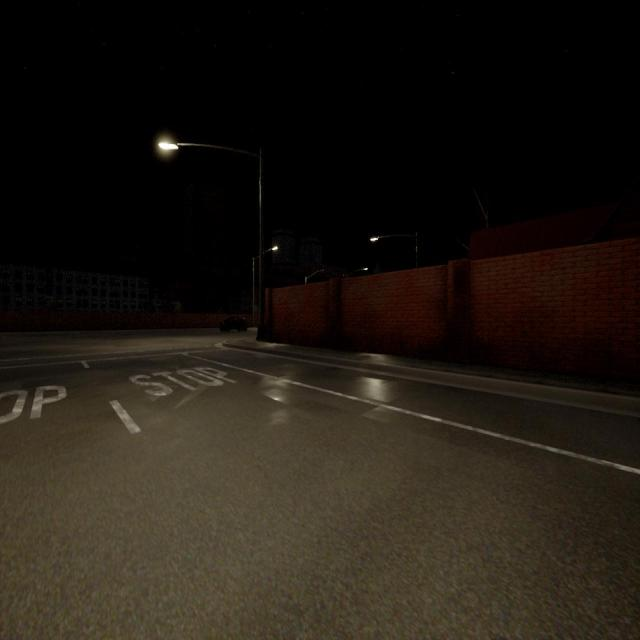Vehicle: (218, 318, 246, 330)
